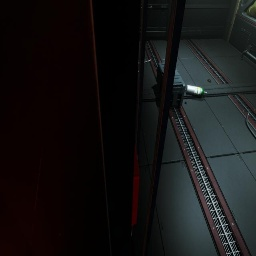0: (186, 85, 207, 96)
FireAlarm ,: (132, 142, 140, 226)
